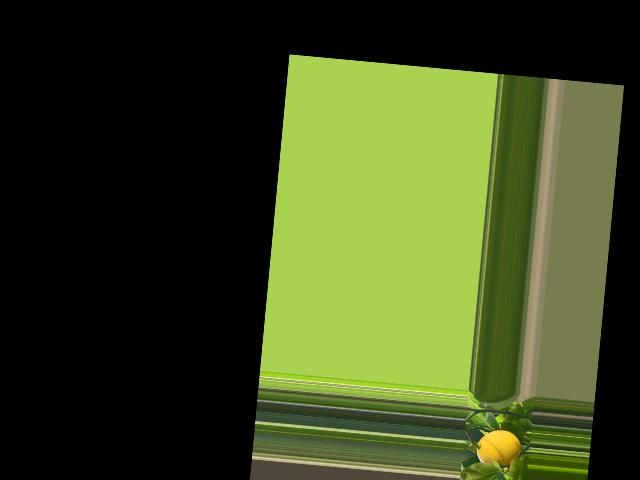lemon: (472, 427, 523, 469)
